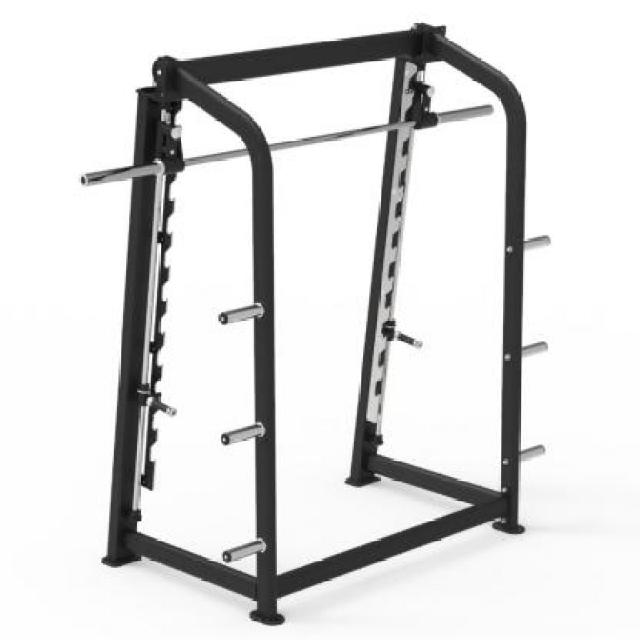smith machine: (80, 18, 546, 624)
